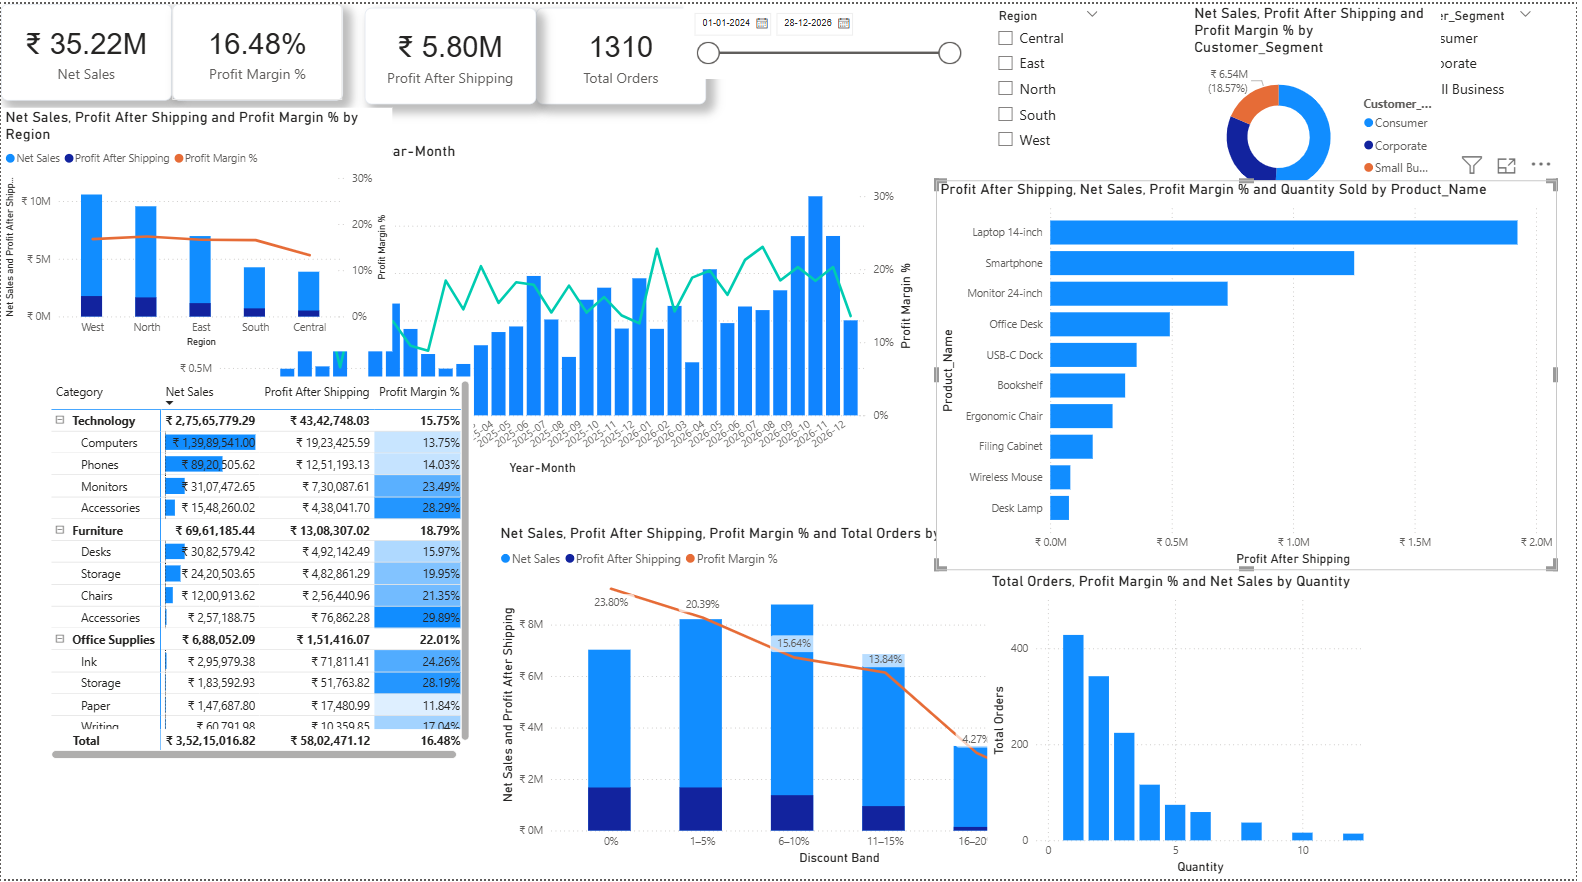

The page's visual inventory and layout, read from the dashboard file:
{"tool":"powerbi","page":{"name":"Page 1","canvas":[1800,1000],"ordinal":0},"visuals":[{"type":"card","fields":{"Values":["retail_sales.Net Sales"]},"box":[0,0,195,110],"z":0},{"type":"card","fields":{"Values":["retail_sales.Profit Margin %"]},"box":[195,0,195,110],"z":1000},{"type":"card","fields":{"Values":["retail_sales.Total Orders"]},"box":[611.4,4.3,194.3,110],"z":2000},{"type":"card","fields":{"Values":["retail_sales.Profit After Shipping"]},"box":[415.7,4.3,195.7,110],"z":3000},{"type":"slicer","fields":{"Values":["Date.Date"]},"box":[780,0,325.6,85.6],"z":4000},{"type":"slicer","fields":{"Values":["retail_sales.Region"]},"box":[1127.5,0,138.8,183.8],"z":5000},{"type":"slicer","fields":{"Values":["retail_sales.Category"]},"box":[1347.5,0,150,118.8],"z":6000},{"type":"slicer","fields":{"Values":["retail_sales.Customer_Segment"]},"box":[1578.8,0,182.5,118.8],"z":7000},{"type":"lineClusteredColumnComboChart","fields":{"Category":["Date.Year-Month"],"Y":["retail_sales.Net Sales"],"Y2":["retail_sales.Profit Margin %"]},"box":[177.1,157.1,870,385.7],"z":8000},{"type":"lineClusteredColumnComboChart","fields":{"Category":["retail_sales.Region"],"Y":["retail_sales.Net Sales","retail_sales.Profit After Shipping"],"Y2":["retail_sales.Profit Margin %"]},"box":[0,118.6,447.1,278.6],"z":9000},{"type":"pivotTable","fields":{"Rows":["retail_sales.Category","retail_sales.Subcategory"],"Values":["retail_sales.Net Sales","retail_sales.Profit After Shipping","retail_sales.Profit Margin %"]},"box":[52.9,425.7,487.1,441.4],"z":10000},{"type":"lineClusteredColumnComboChart","fields":{"Category":["retail_sales.Discount Band"],"Y":["retail_sales.Net Sales","retail_sales.Profit After Shipping"],"Y2":["retail_sales.Profit Margin %"]},"box":[565.7,594.3,781.4,394.3],"z":11000},{"type":"donutChart","fields":{"Category":["retail_sales.Customer_Segment"],"Y":["retail_sales.Net Sales"]},"box":[1358.3,0,287.5,246.2],"z":12000},{"type":"barChart","fields":{"Category":["retail_sales.Product_Name"],"Y":["retail_sales.Profit After Shipping"]},"box":[1068.6,201.4,710,445.7],"z":13000},{"type":"clusteredColumnChart","fields":{"Category":["retail_sales.Quantity"],"Y":["retail_sales.Total Orders"]},"box":[1127.5,648.8,436.2,351.2],"z":14000}]}

Visuals, with their boxes in screenshot pixels (x1, y1, x2, y2), scaled from the page's 1800x1000 canvas onto the 1582x882 screenshot:
card - retail_sales.Net Sales: region(0, 0, 171, 97)
card - retail_sales.Profit Margin %: region(171, 0, 343, 97)
card - retail_sales.Total Orders: region(537, 4, 708, 101)
card - retail_sales.Profit After Shipping: region(365, 4, 537, 101)
slicer - Date.Date: region(686, 0, 972, 75)
slicer - retail_sales.Region: region(991, 0, 1113, 162)
slicer - retail_sales.Category: region(1184, 0, 1316, 105)
slicer - retail_sales.Customer_Segment: region(1388, 0, 1548, 105)
lineClusteredColumnComboChart - Date.Year-Month x retail_sales.Net Sales: region(156, 139, 920, 479)
lineClusteredColumnComboChart - retail_sales.Region x retail_sales.Net Sales: region(0, 105, 393, 350)
pivotTable - retail_sales.Category x retail_sales.Subcategory: region(46, 375, 475, 765)
lineClusteredColumnComboChart - retail_sales.Discount Band x retail_sales.Net Sales: region(497, 524, 1184, 872)
donutChart - retail_sales.Customer_Segment x retail_sales.Net Sales: region(1194, 0, 1446, 217)
barChart - retail_sales.Product_Name x retail_sales.Profit After Shipping: region(939, 178, 1563, 571)
clusteredColumnChart - retail_sales.Quantity x retail_sales.Total Orders: region(991, 572, 1374, 881)
